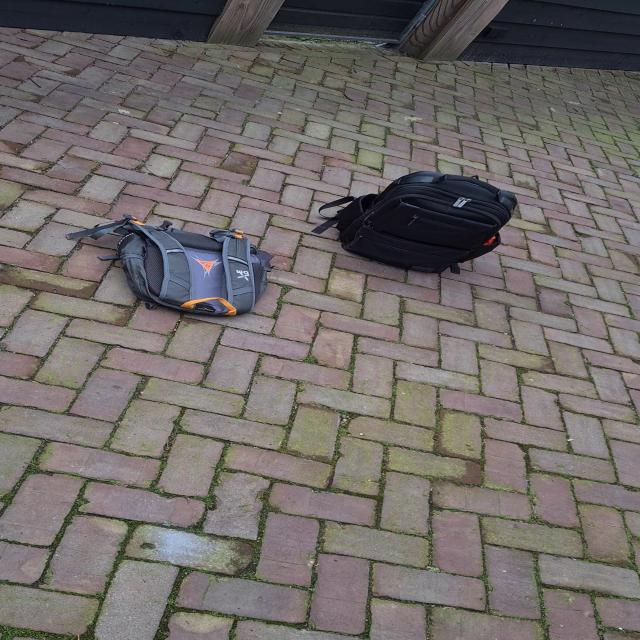backpack: (328, 166, 522, 273), (95, 213, 278, 317)
